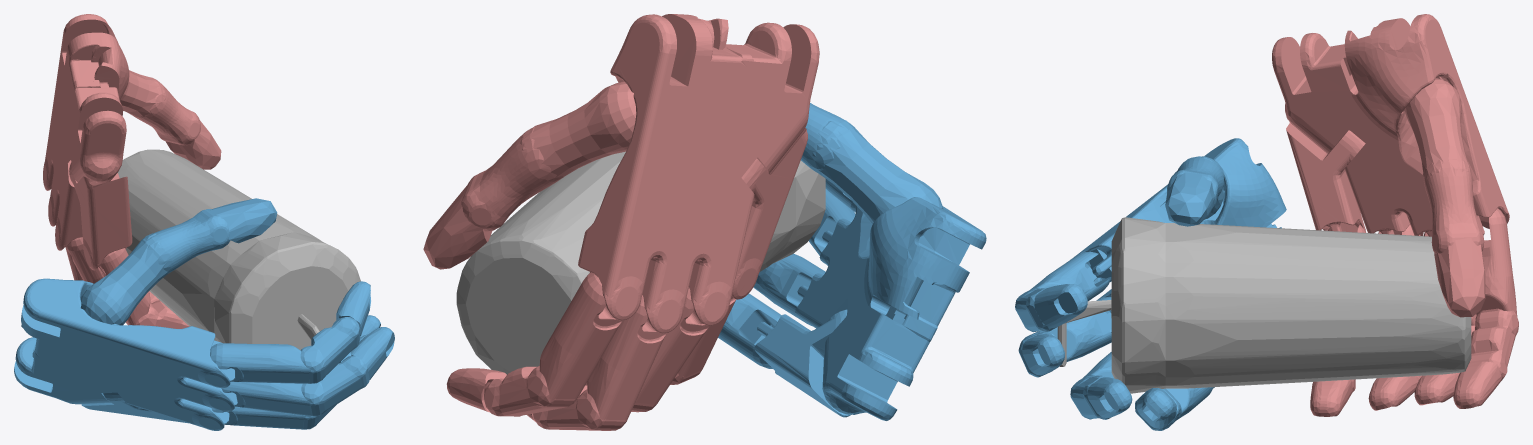
Rendered from DrinkingUtensil_mesh.glb.
3 renders of one model, left to right at view 1: azimuth 30°, elevation 25°; view 2: azimuth 150°, elevation 25°; view 3: azimuth 270°, elevation 25°, orthographic. The views are drawn at different scales.
Parts seen in each view (by area): view 1: geom_1, geom_2, geom_0; view 2: geom_2, geom_1, geom_0; view 3: geom_0, geom_2, geom_1.
Boxes of the visible parts, x1=… form: geom_1: x1=14, y1=198, x2=394, y2=430; geom_2: x1=43, y1=14, x2=221, y2=328; geom_0: x1=117, y1=149, x2=360, y2=349; geom_2: x1=423, y1=14, x2=819, y2=430; geom_1: x1=718, y1=103, x2=986, y2=420; geom_0: x1=456, y1=151, x2=825, y2=374; geom_0: x1=1057, y1=217, x2=1471, y2=393; geom_2: x1=1272, y1=14, x2=1518, y2=416; geom_1: x1=1015, y1=138, x2=1286, y2=430.
Bounding box in the file's own units: 0.19 × 0.1887 × 0.2275.
